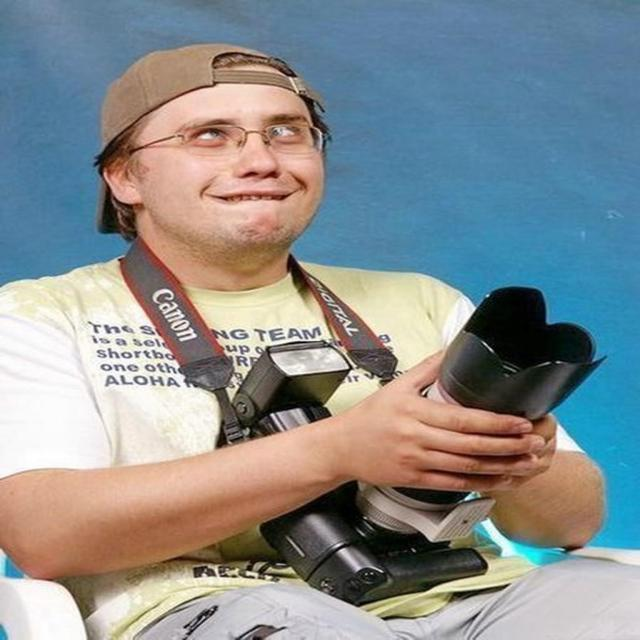nomask: (133, 65, 325, 242)
